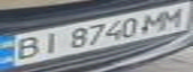0: (118, 15, 145, 39)
4: (103, 17, 127, 43)
7: (84, 21, 109, 47)
8: (63, 25, 90, 51)
B: (3, 34, 48, 62)
I: (30, 29, 66, 56)
M: (139, 8, 175, 33), (157, 3, 190, 30)
